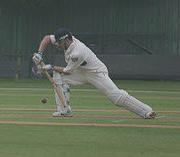batsman: (24, 24, 166, 133)
